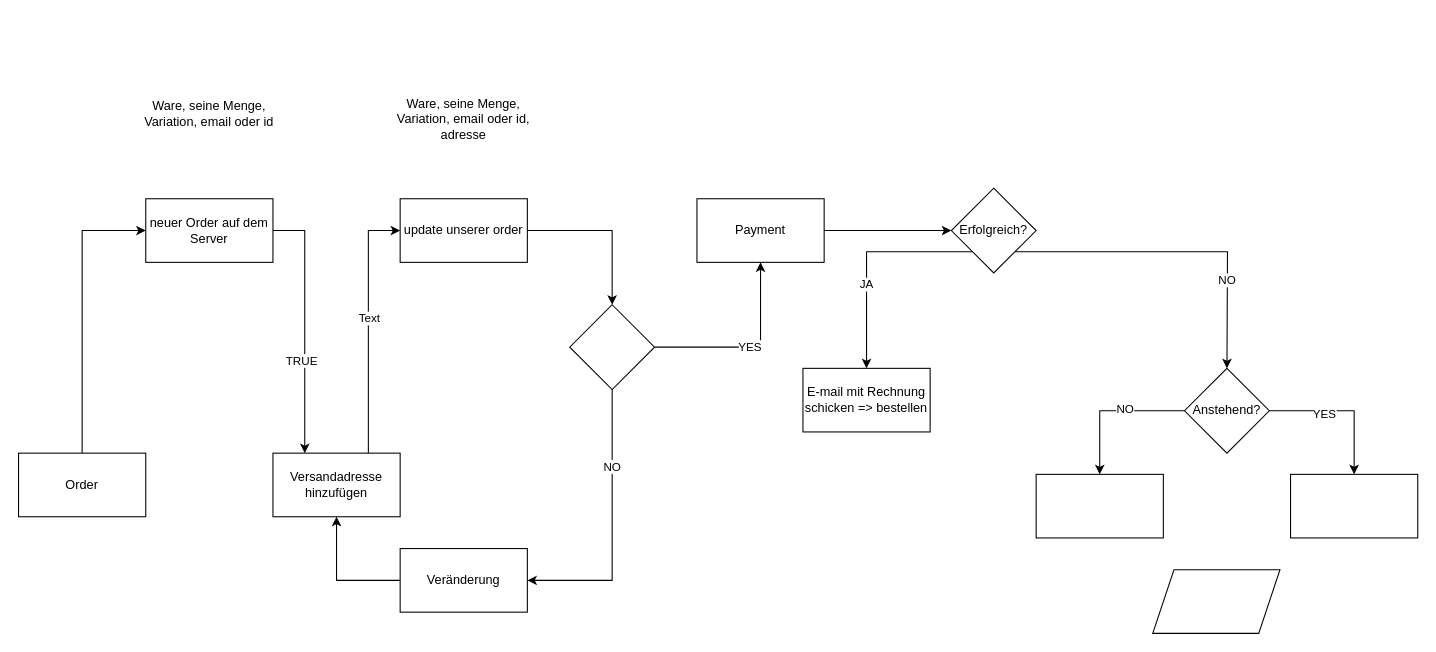
The diagram is 1436 pixels wide and 652 high, and some of its shapes have lost their labels. Each missing label, with the box of its shape:
E-Mail an Admins => E-Mail an Kunde: (1289, 473, 1418, 538)
E-Mail an Kunde (Was ist passiert? Warum usw): (1035, 473, 1163, 538)
Ist alles korrekt?: (569, 304, 655, 390)
Mail-Vorlage: (1152, 569, 1280, 633)
